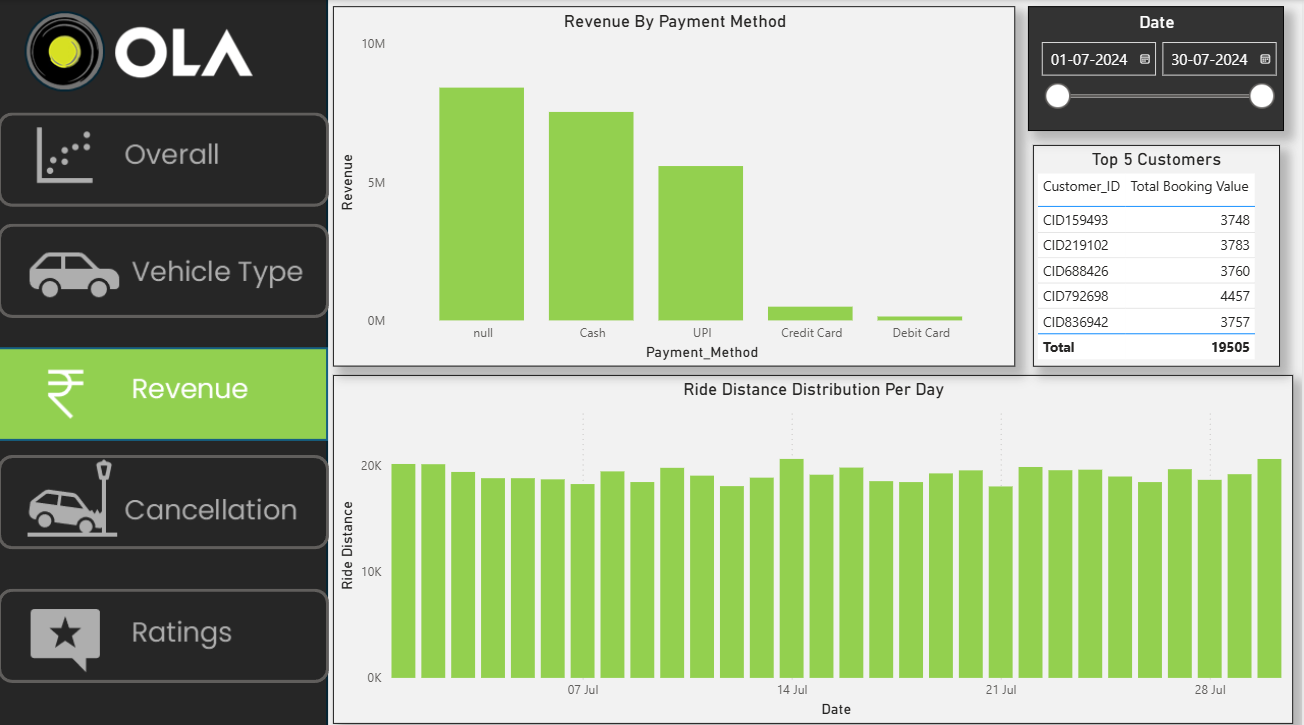

This screenshot's page, from the dashboard's own definition file:
{"tool":"powerbi","page":{"name":"Revenue","canvas":[1280,720],"ordinal":2},"visuals":[{"type":"actionButton","box":[0,220,325,92.5],"z":0},{"type":"actionButton","box":[0,110,325,92.5],"z":1000},{"type":"actionButton","box":[0,446.2,325,92.5],"z":2000},{"type":"actionButton","box":[0,577.5,325,92.5],"z":3000},{"type":"clusteredColumnChart","title":"Revenue By Payment Method","fields":{"Category":["Bookings.Payment_Method"],"Y":["Sum(Bookings.Booking_Value)"]},"box":[328.8,6.1,669.9,353.4],"z":4000},{"type":"clusteredColumnChart","title":"Ride Distance Distribution Per Day","fields":{"Category":["Bookings.Date"],"Y":["Sum(Bookings.Ride_Distance)"]},"box":[328.8,368.1,942.3,342.3],"z":5000},{"type":"slicer","title":"Date","fields":{"Values":["Bookings.Date"]},"box":[1011,6.1,251.5,122.7],"z":6000},{"type":"tableEx","title":"Top 5 Customers","fields":{"Values":["Bookings.Customer_ID","Sum(Bookings.Booking_Value)"]},"box":[1016.5,141.8,242.6,217.7],"z":7000}]}

Visuals, with their boxes in screenshot pixels (x1, y1, x2, y2), scaled from the page's 1280x720 canvas onto the 1304x725 screenshot:
actionButton: region(0, 222, 331, 315)
actionButton: region(0, 111, 331, 204)
actionButton: region(0, 449, 331, 542)
actionButton: region(0, 582, 331, 675)
"Revenue By Payment Method" clusteredColumnChart: region(335, 6, 1017, 362)
"Ride Distance Distribution Per Day" clusteredColumnChart: region(335, 371, 1295, 715)
"Date" slicer: region(1030, 6, 1286, 130)
"Top 5 Customers" tableEx: region(1036, 143, 1283, 362)
